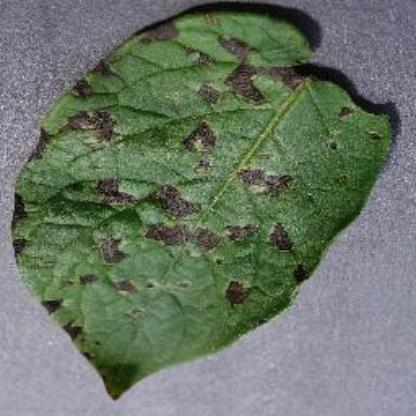Early-Blight: (10, 0, 415, 402)
